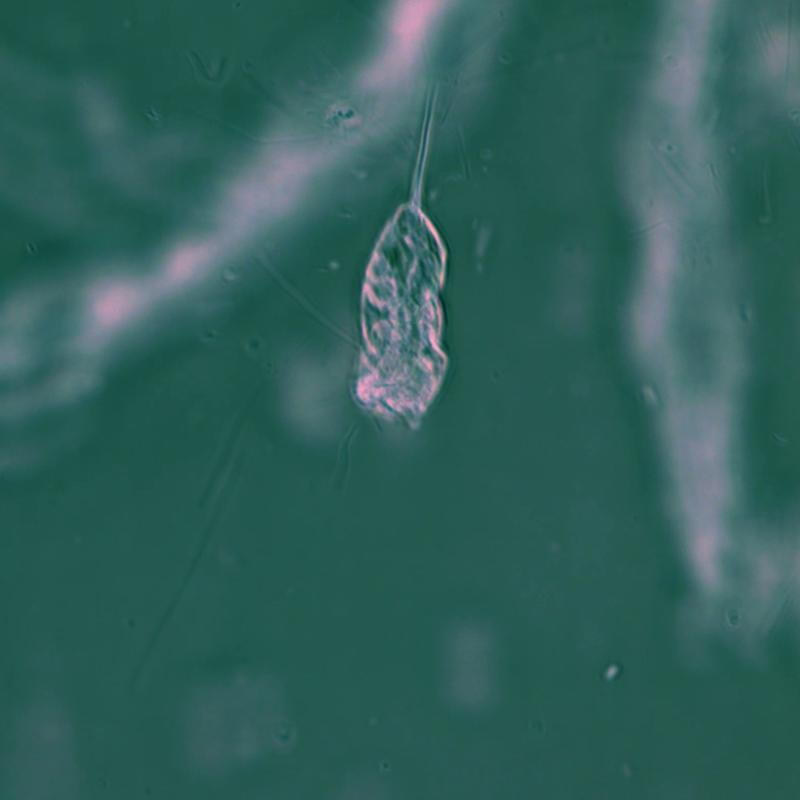depth:20: (337, 69, 498, 438)
